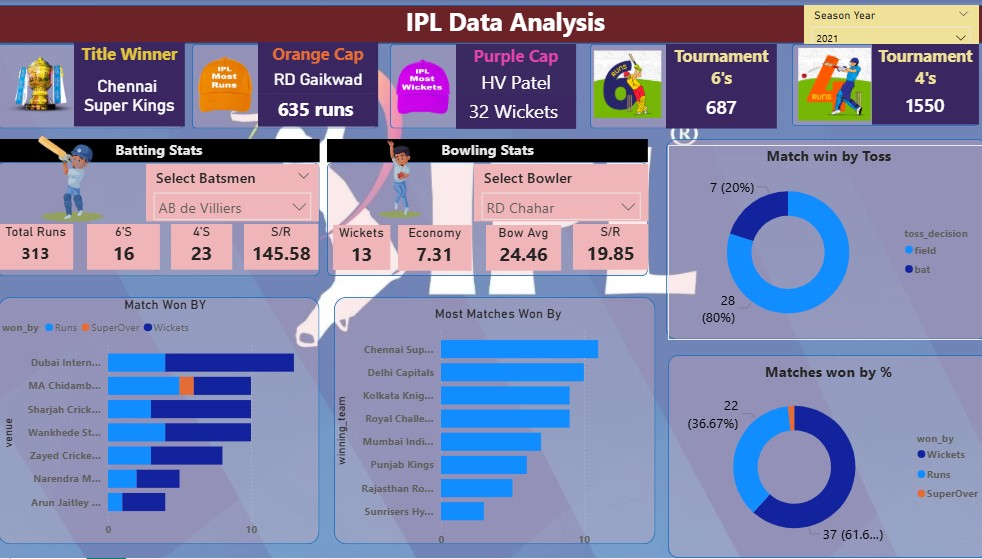

Layout of this report page (visuals, bound fields, positions):
{"tool":"powerbi","page":{"name":"Page 1","canvas":[1280,720],"ordinal":0},"visuals":[{"type":"shape","box":[865.1,458.6,414.9,262],"z":0},{"type":"shape","title":"Bowling Stats","box":[431.7,179.7,414.9,164.6],"z":1000},{"type":"shape","box":[1024.7,57.1,240.2,105.8],"z":2000},{"type":"shape","box":[0,7.1,1279.8,49.6],"z":3000},{"type":"textbox","box":[511.7,0,326,56.7],"z":4000},{"type":"slicer","title":"Select Season Year","fields":{"Values":["Calender Table.Year"]},"box":[1039.8,6.7,225.1,50.4],"z":5000},{"type":"shape","box":[0,57.1,240.2,109.2],"z":6000},{"type":"card","title":"Title Winner","fields":{"Values":["public ipl_matches_2008_2022.Title Winner"]},"box":[97.4,53.8,142.8,109.2],"z":7000},{"type":"shape","box":[250.3,57.1,240.2,109.2],"z":8000},{"type":"shape","box":[505.6,57.1,240.2,109.2],"z":9000},{"type":"shape","box":[764.3,57.1,240.2,109.2],"z":10000},{"type":"card","title":"Orange Cap","fields":{"Values":["public ipl_ball_by_ball_2008_2022.batter"]},"box":[336,53.8,154.5,67.2],"z":11000},{"type":"card","title":"Purple Cap","fields":{"Values":["public ipl_ball_by_ball_2008_2022.bowler"]},"box":[591.3,57.1,154.5,72.2],"z":12000},{"type":"card","title":"Tournament 6''s","fields":{"Values":["public ipl_ball_by_ball_2008_2022.batsman_run"]},"box":[861.7,57.1,142.8,109.2],"z":13000},{"type":"card","title":"Orange Cap","fields":{"Values":["public ipl_ball_by_ball_2008_2022.batter runs"]},"box":[336,120.9,154.5,42],"z":14000},{"type":"card","title":"Purple Cap","fields":{"Values":["public ipl_ball_by_ball_2008_2022.total wickets"]},"box":[591.3,120.9,154.5,45.4],"z":15000},{"type":"card","title":"Tournament 4''s","fields":{"Values":["public ipl_ball_by_ball_2008_2022.batsman_run"]},"box":[1127.1,57.1,137.7,104.1],"z":16000},{"type":"shape","box":[861.7,179.7,414.9,258.7],"z":17000},{"type":"shape","title":"Batting Stats","box":[0,179.7,414.9,177],"z":18000},{"type":"slicer","fields":{"Values":["public ipl_ball_by_ball_2008_2022.bowler"]},"box":[614.8,211.7,223.4,73.9],"z":19000},{"type":"card","title":"Total Runs ","fields":{"Values":["public ipl_ball_by_ball_2008_2022.batsman_run"]},"box":[0,288.9,97.4,58.8],"z":20000},{"type":"card","title":"6''S","fields":{"Values":["public ipl_ball_by_ball_2008_2022.batsman_run"]},"box":[114.2,288.9,94.1,58.8],"z":21000},{"type":"card","title":"S/R","fields":{"Values":["public ipl_ball_by_ball_2008_2022.strike rate"]},"box":[317.5,288.9,95.7,58.8],"z":22000},{"type":"card","title":"4''S","fields":{"Values":["public ipl_ball_by_ball_2008_2022.batsman_run"]},"box":[223.4,288.9,79,58.8],"z":23000},{"type":"slicer","fields":{"Values":["public ipl_ball_by_ball_2008_2022.batter"]},"box":[191.5,211.7,223.4,73.9],"z":24000},{"type":"card","title":"Wickets","fields":{"Values":["public ipl_ball_by_ball_2008_2022.iswicket_delivery"]},"box":[431.7,288.9,73.9,58.8],"z":25000},{"type":"card","title":"Economy","fields":{"Values":["public ipl_ball_by_ball_2008_2022.Economy"]},"box":[519.1,285.6,95.7,58.8],"z":26000},{"type":"card","title":"S/R","fields":{"Values":["public ipl_ball_by_ball_2008_2022.avg bowler"]},"box":[742.5,285.6,95.7,58.8],"z":27000},{"type":"card","title":"Bow Avg","fields":{"Values":["public ipl_ball_by_ball_2008_2022.Bowler_Average"]},"box":[631.6,285.6,95.7,58.8],"z":28000},{"type":"donutChart","title":"Matches won by %","fields":{"Y":["public ipl_matches_2008_2022.id"],"Category":["public ipl_matches_2008_2022.won_by"]},"box":[865.1,465.3,414.9,248.6],"z":29000},{"type":"donutChart","title":"Match win by Toss","fields":{"Y":["public ipl_matches_2008_2022.Toss_Win_Match_Win_Percentage"],"Category":["public ipl_matches_2008_2022.toss_decision"]},"box":[865.1,186.5,414.9,252],"z":30000},{"type":"shape","box":[0,383,414.9,319.2],"z":31000},{"type":"barChart","title":"Match Won BY","fields":{"Category":["public ipl_matches_2008_2022.venue"],"Y":["public ipl_matches_2008_2022.id"],"Series":["public ipl_matches_2008_2022.won_by"]},"box":[0,383,431.7,319.2],"z":32000},{"type":"shape","box":[433.4,383,414.9,319.2],"z":33000},{"type":"barChart","title":"Most Matches Won By ","fields":{"Category":["public ipl_matches_2008_2022.winning_team"],"Y":["public ipl_matches_2008_2022.winning_team"]},"box":[430,394.8,431.7,319.2],"z":34000},{"type":"image","box":[0,42,114.2,134.4],"z":35000},{"type":"image","box":[240.2,65.5,107.5,87.3],"z":36000},{"type":"image","box":[505.6,63.8,85.7,97.4],"z":37000},{"type":"image","box":[764.3,53.8,97.4,109.2],"z":38000},{"type":"image","box":[1024.7,57.1,109.2,104.1],"z":39000},{"type":"image","box":[0,152.9,188.1,156.2],"z":40000},{"type":"image","box":[429.4,187.1,185.7,119.1],"z":41000}]}

Visuals, with their boxes in screenshot pixels (x1, y1, x2, y2), scaled from the page's 1280x720 canvas onto the 982x559 screenshot:
shape: bbox=(664, 356, 981, 558)
"Bowling Stats" shape: bbox=(331, 140, 650, 267)
shape: bbox=(786, 44, 970, 126)
shape: bbox=(0, 6, 981, 44)
textbox: bbox=(393, 0, 643, 44)
"Select Season Year" slicer: bbox=(798, 5, 970, 44)
shape: bbox=(0, 44, 184, 129)
"Title Winner" card: bbox=(75, 42, 184, 127)
shape: bbox=(192, 44, 376, 129)
shape: bbox=(388, 44, 572, 129)
shape: bbox=(586, 44, 771, 129)
"Orange Cap" card: bbox=(258, 42, 376, 94)
"Purple Cap" card: bbox=(454, 44, 572, 100)
"Tournament 6''s" card: bbox=(661, 44, 771, 129)
"Orange Cap" card: bbox=(258, 94, 376, 126)
"Purple Cap" card: bbox=(454, 94, 572, 129)
"Tournament 4''s" card: bbox=(865, 44, 970, 125)
shape: bbox=(661, 140, 979, 340)
"Batting Stats" shape: bbox=(0, 140, 318, 277)
slicer - public ipl_ball_by_ball_2008_2022.bowler: bbox=(472, 164, 643, 222)
"Total Runs " card: bbox=(0, 224, 75, 270)
"6''S" card: bbox=(88, 224, 160, 270)
"S/R" card: bbox=(244, 224, 317, 270)
"4''S" card: bbox=(171, 224, 232, 270)
slicer - public ipl_ball_by_ball_2008_2022.batter: bbox=(147, 164, 318, 222)
"Wickets" card: bbox=(331, 224, 388, 270)
"Economy" card: bbox=(398, 222, 472, 267)
"S/R" card: bbox=(570, 222, 643, 267)
"Bow Avg" card: bbox=(485, 222, 558, 267)
"Matches won by %" donutChart: bbox=(664, 361, 981, 554)
"Match win by Toss" donutChart: bbox=(664, 145, 981, 340)
shape: bbox=(0, 297, 318, 545)
"Match Won BY" barChart: bbox=(0, 297, 331, 545)
shape: bbox=(332, 297, 651, 545)
"Most Matches Won By " barChart: bbox=(330, 307, 661, 554)
image: bbox=(0, 33, 88, 137)
image: bbox=(184, 51, 267, 119)
image: bbox=(388, 50, 454, 125)
image: bbox=(586, 42, 661, 127)
image: bbox=(786, 44, 870, 125)
image: bbox=(0, 119, 144, 240)
image: bbox=(329, 145, 472, 238)
